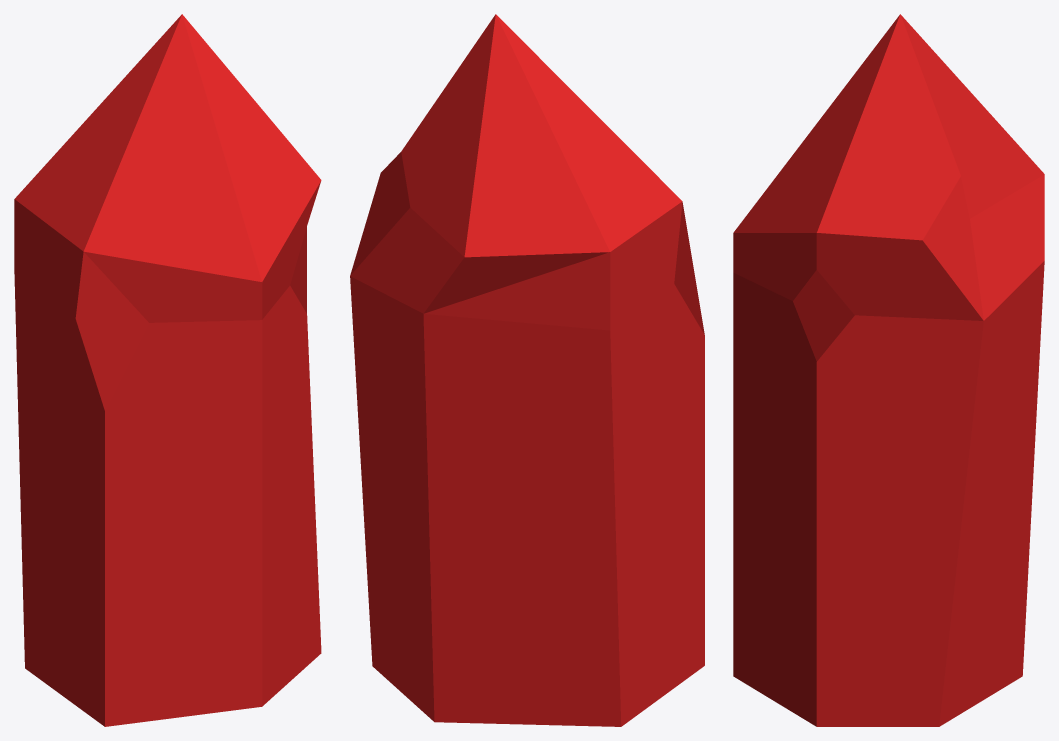
Rendered from cristal-6-1.fbx.
The picture shows the model from 3 angles, left to right: view 1: azimuth 30°, elevation 25°; view 2: azimuth 150°, elevation 25°; view 3: azimuth 270°, elevation 25°; orthographic projection. The views are drawn at different scales.
Visible parts, largest first — view 1: Cylinder.820; view 2: Cylinder.820; view 3: Cylinder.820.
Boxes of the visible parts, x1=… form: Cylinder.820: x1=14, y1=14, x2=321, y2=726; Cylinder.820: x1=350, y1=14, x2=704, y2=726; Cylinder.820: x1=733, y1=14, x2=1044, y2=726.
Bounding box in the file's own units: 11.87 × 30.24 × 12.89.
